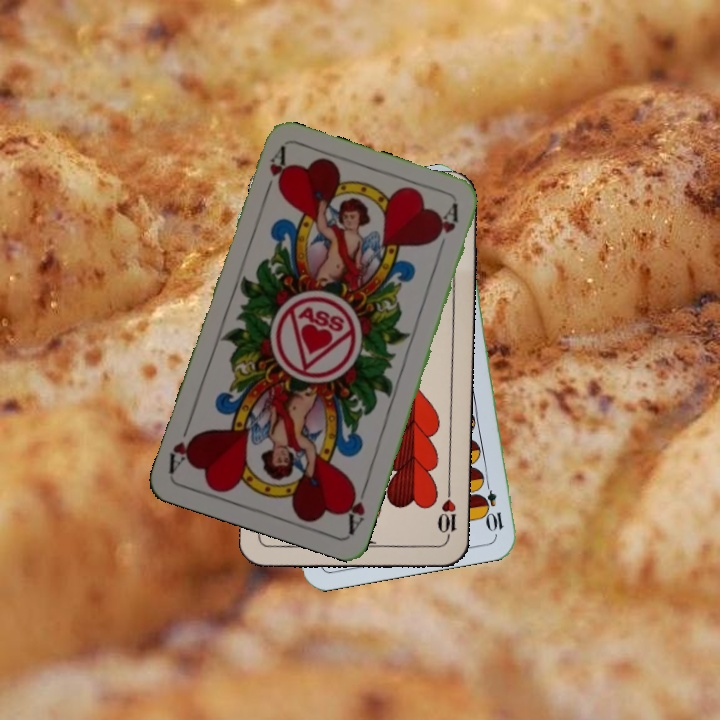E10: (479, 475, 506, 534)
H10: (433, 485, 459, 544)
HA: (341, 478, 371, 536), (259, 144, 289, 201)
